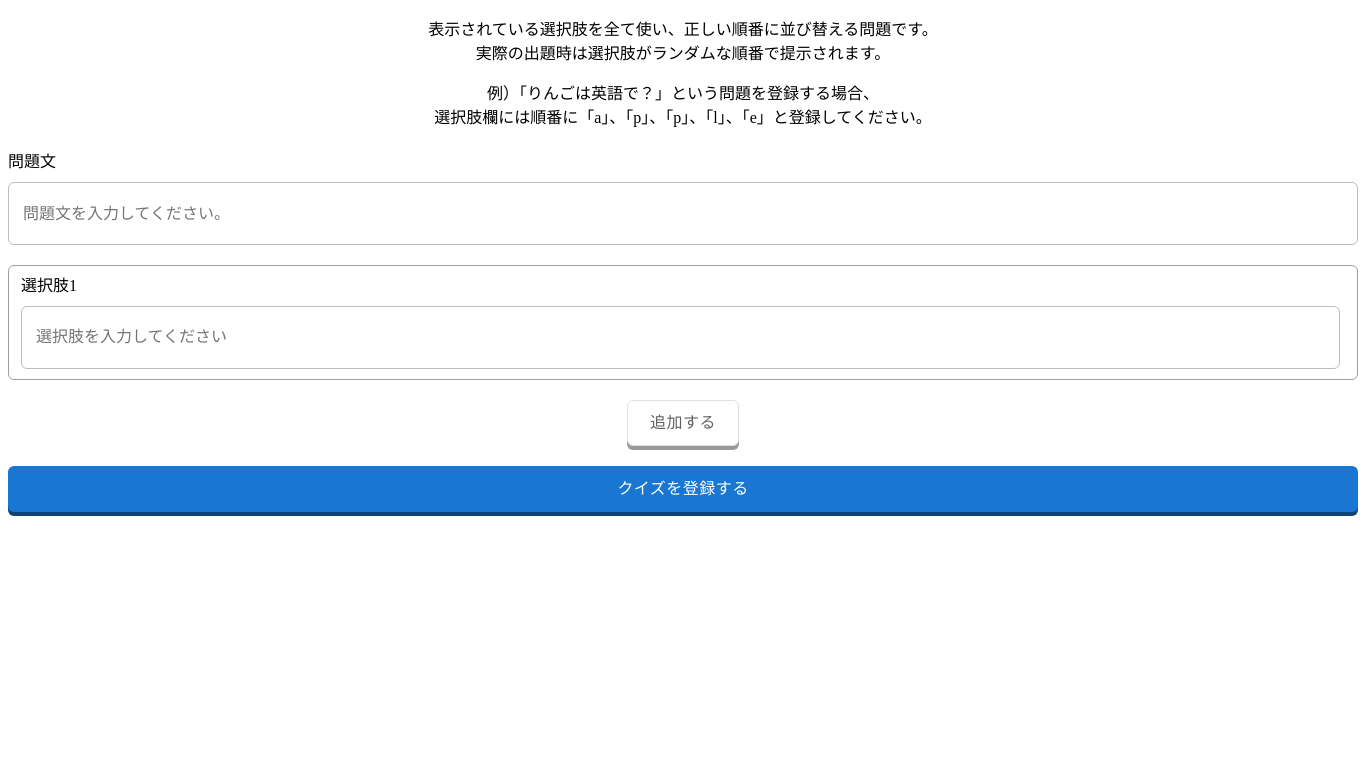
Test: <RegisterSortQuiz /> › Remove button › should remove the corresponding option when it is clicked
Step 1. Click the button "追加する" → x=683, y=423, box left=627, top=400, right=739, bottom=446
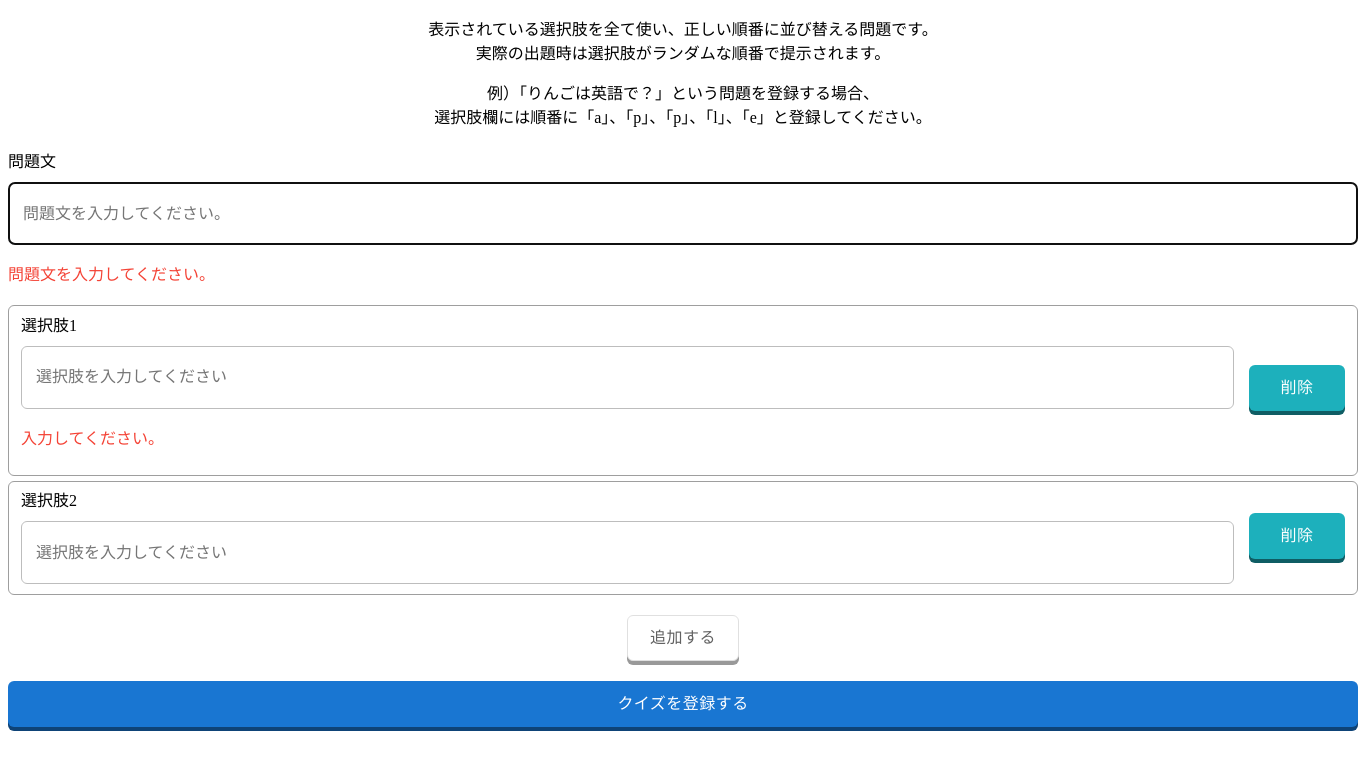
Expected: the field labelled "選択肢2" is shown, left=21, top=521, right=1234, bottom=584
Step 2. Click the 2nd button "削除" → x=1297, y=536, box left=1249, top=513, right=1345, bottom=559
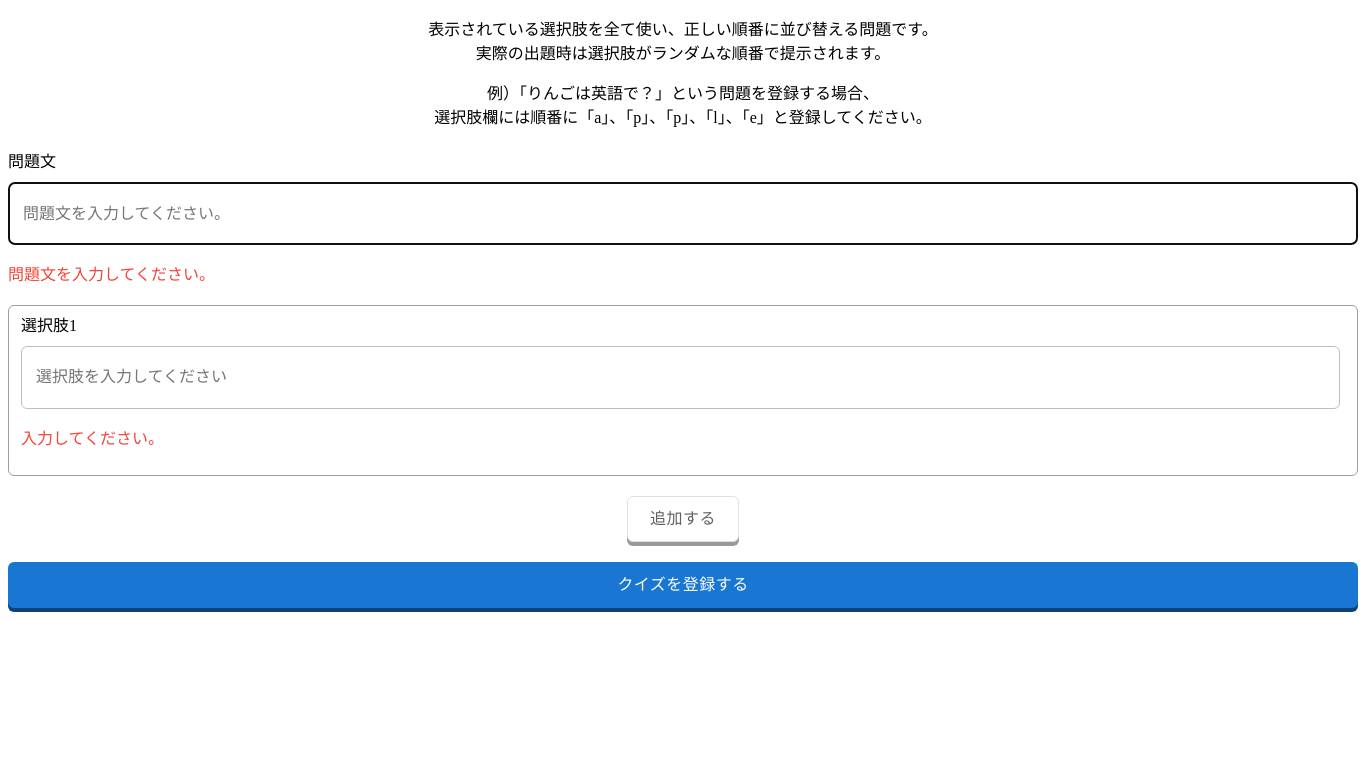
Expected: the label labelled "選択肢2" is gone
